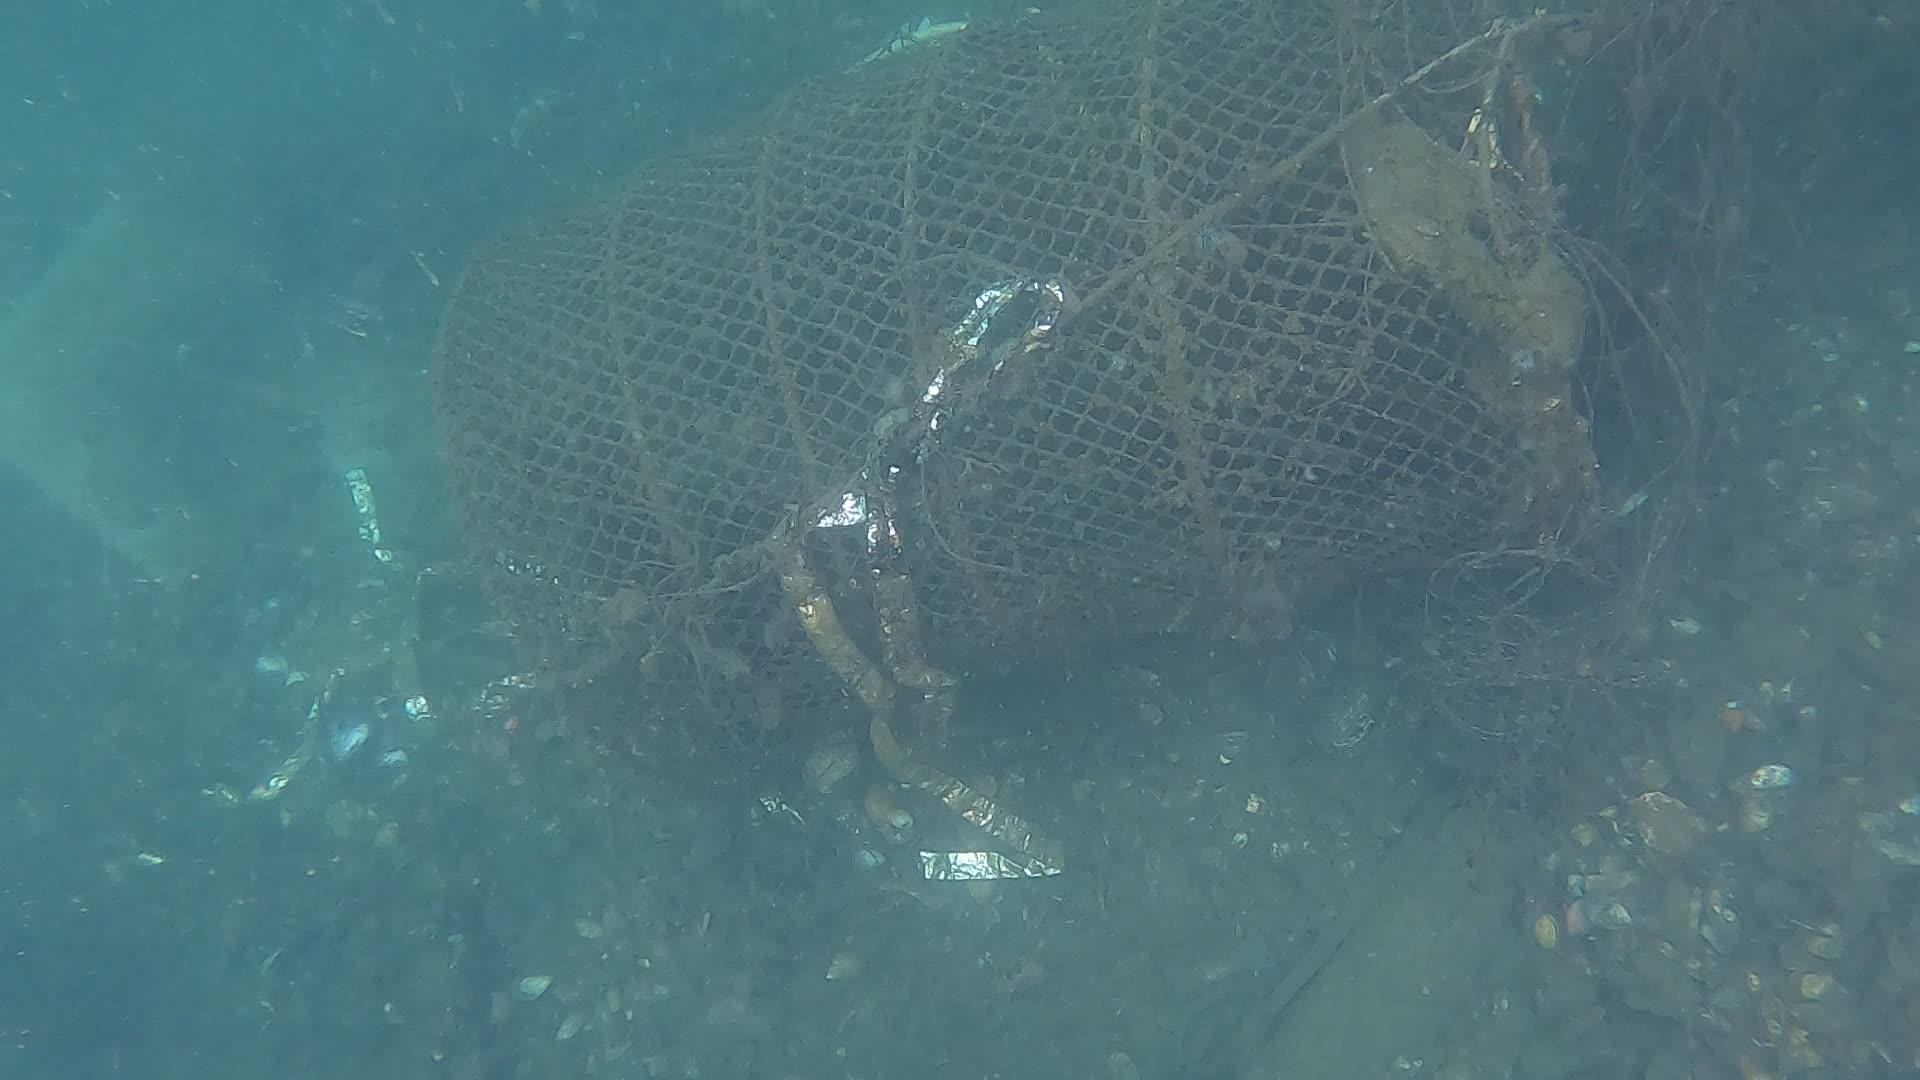spring fish trap: (419, 0, 1588, 798)
